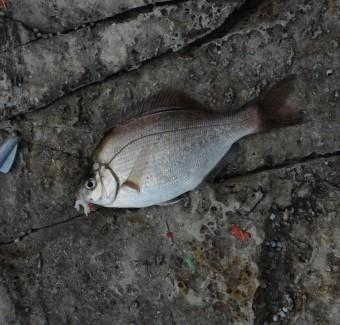fish: (80, 75, 302, 206)
